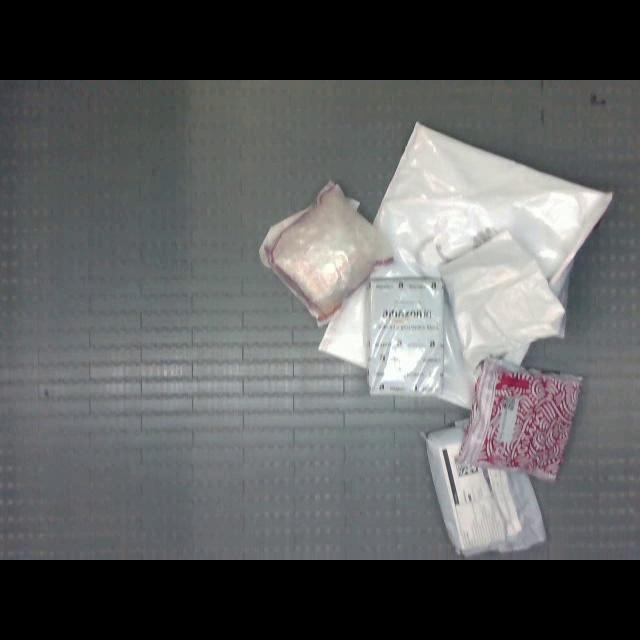mailer: (260, 182, 392, 325), (440, 231, 564, 367), (422, 422, 545, 553), (459, 360, 581, 480), (369, 277, 443, 394)
